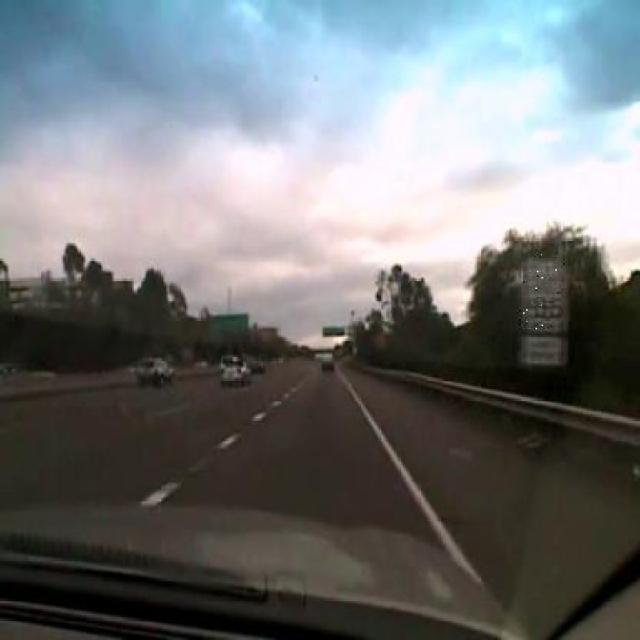truckSpeedLimit55: (523, 252, 568, 333)
